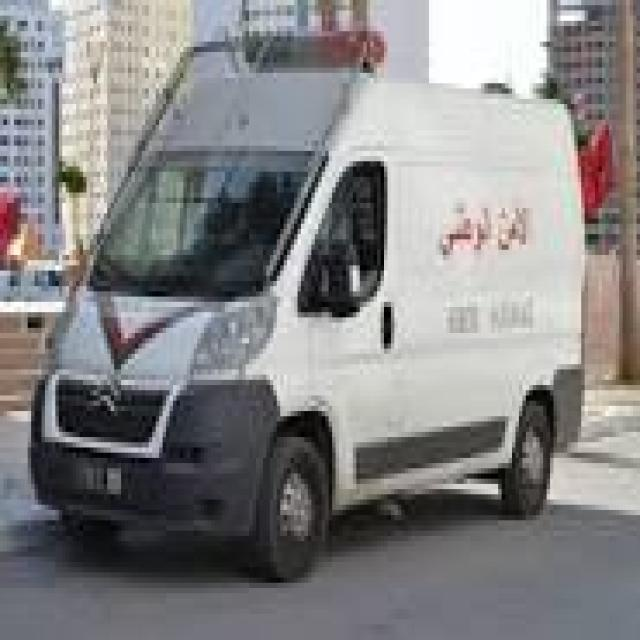police: (34, 26, 584, 582)
